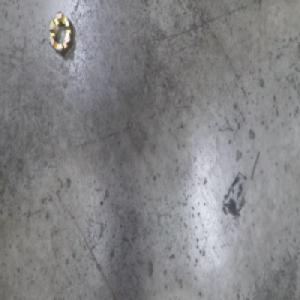Nut: (48, 11, 74, 58)
